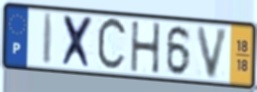6: (166, 24, 193, 77)
C: (95, 15, 129, 75)
H: (129, 20, 162, 75)
I: (42, 12, 56, 68)
V: (195, 25, 231, 81)
X: (60, 13, 96, 71)
